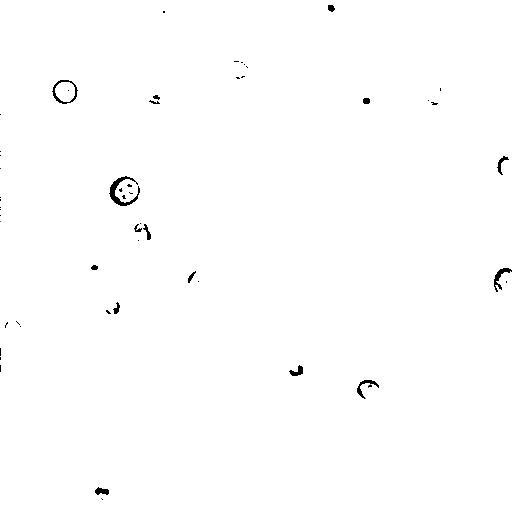micro-algae: (93, 165, 163, 238), (109, 176, 141, 206), (425, 77, 450, 109), (50, 77, 78, 105), (79, 253, 109, 279), (163, 286, 191, 313), (317, 0, 347, 25), (89, 478, 115, 504), (493, 267, 512, 297), (225, 57, 250, 79), (369, 59, 392, 82), (355, 89, 377, 113), (131, 223, 155, 245), (187, 269, 209, 293), (149, 1, 175, 21), (357, 379, 380, 401), (102, 295, 122, 317), (4, 318, 23, 337), (496, 153, 511, 177), (286, 358, 304, 376), (1, 349, 12, 374)
